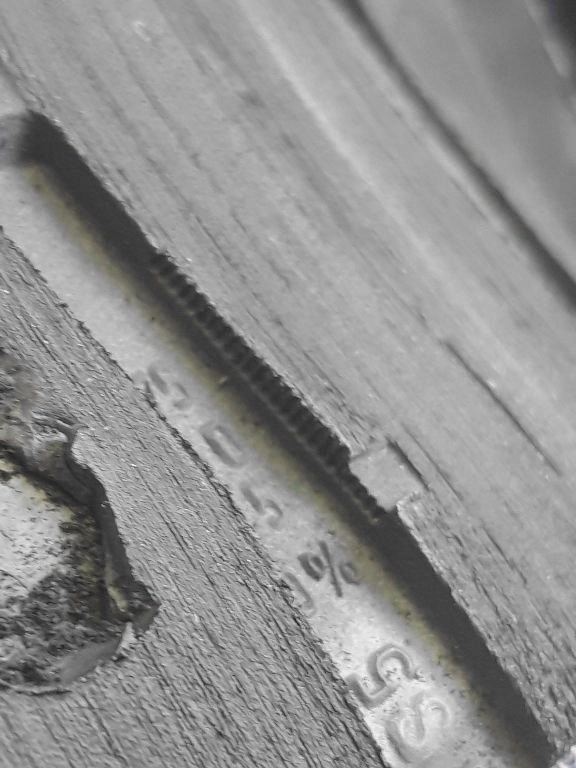temoin:0: (314, 404, 442, 540)
